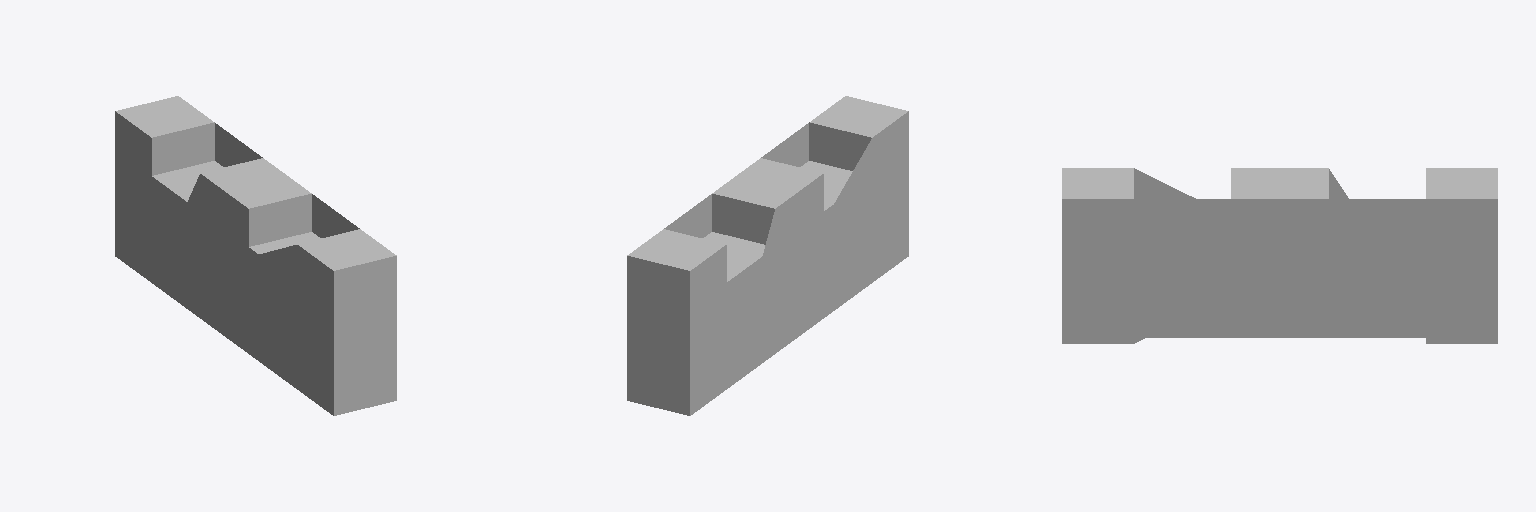
Rendered from M_Castle_Wall_01.obj.
3 renders of one model, left to right at view 1: azimuth 30°, elevation 25°; view 2: azimuth 150°, elevation 25°; view 3: azimuth 270°, elevation 25°, orthographic.
Parts seen in each view (by area): view 1: Mesh1_Castle_Wall_Model; view 2: Mesh1_Castle_Wall_Model; view 3: Mesh1_Castle_Wall_Model.
Boxes of the visible parts, x1,y1,x2,y2 form: Mesh1_Castle_Wall_Model: [115, 96, 396, 415]; Mesh1_Castle_Wall_Model: [627, 96, 908, 415]; Mesh1_Castle_Wall_Model: [1062, 168, 1497, 343].
Bounding box in the file's own units: 0.5 × 1.1 × 3.